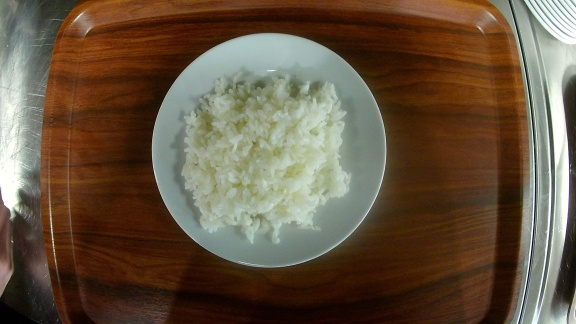pilav: (151, 33, 389, 269)
